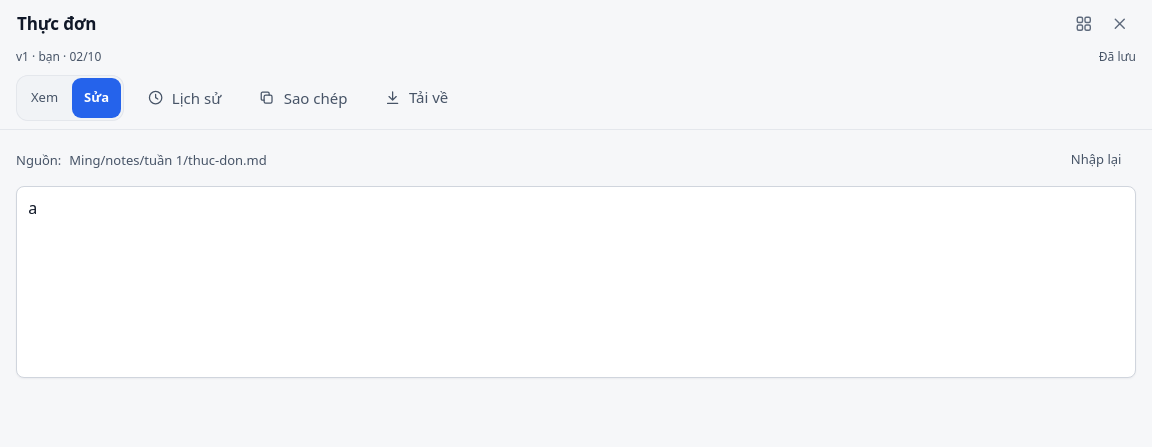
Scenario: what a re-import said, once the canvas has a newer version › stands when a refusal follows a save of the typing, for that version is the one it was said on
The width and height of the screenshot is (1152, 447).
Replace the text in the text box named "Nội dung canvas" with "a!": (576, 282) [16, 186, 1136, 378]
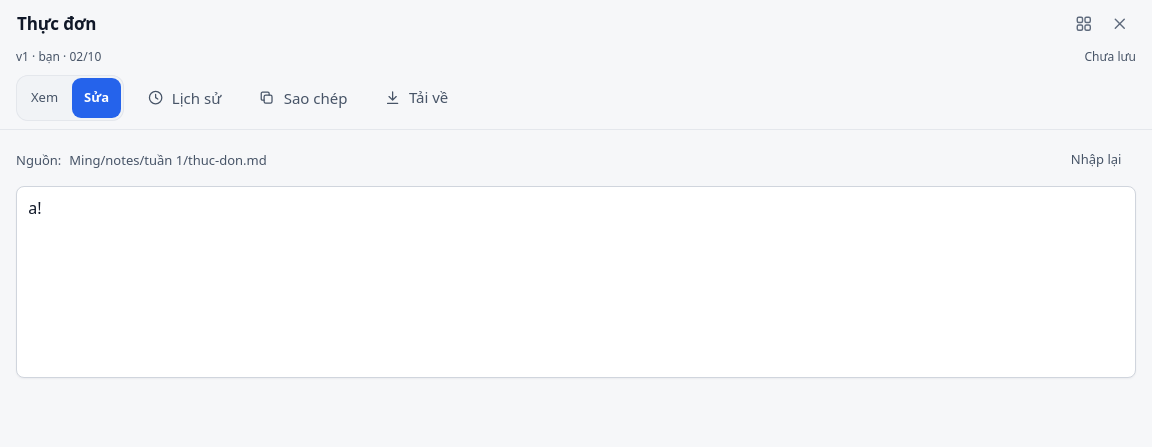
Click the button "Nhập lại": (1096, 160) [1056, 142, 1136, 178]
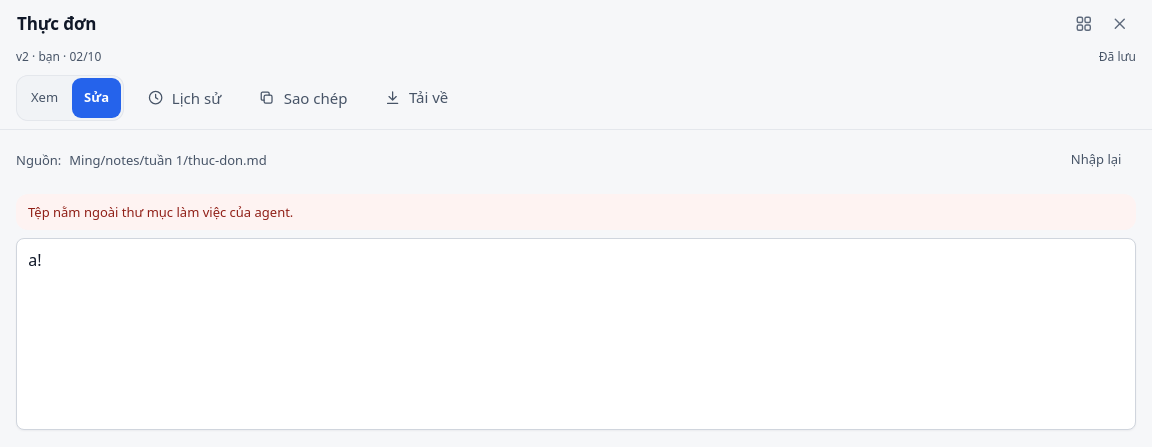
Check: the text with class "canvas-version" shows "v2 · bạn ·", box [16, 48, 101, 65]
